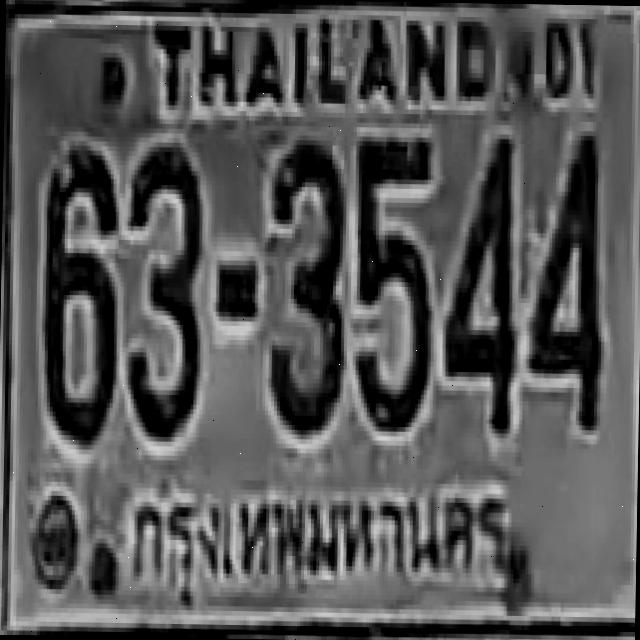3: (266, 134, 346, 430), (122, 143, 202, 434)
4: (524, 132, 604, 428), (443, 131, 518, 431)
5: (351, 134, 434, 430)
6: (40, 144, 117, 440)
Bangkok: (112, 466, 510, 616)
